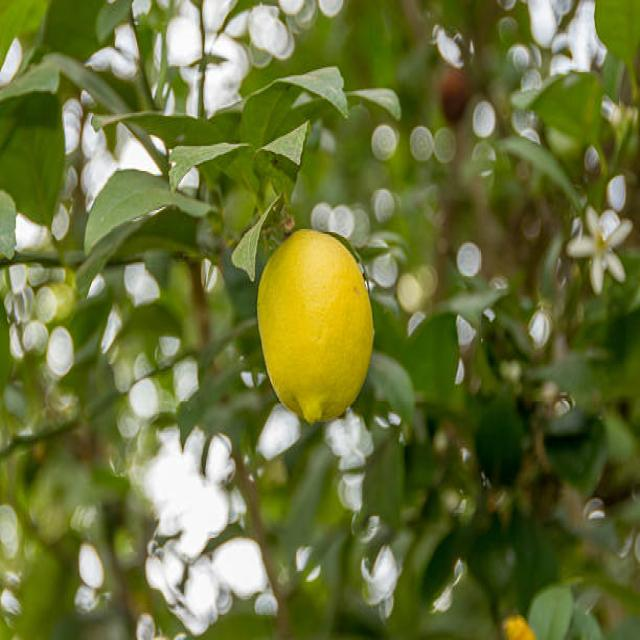Lemon: (258, 226, 375, 428)
